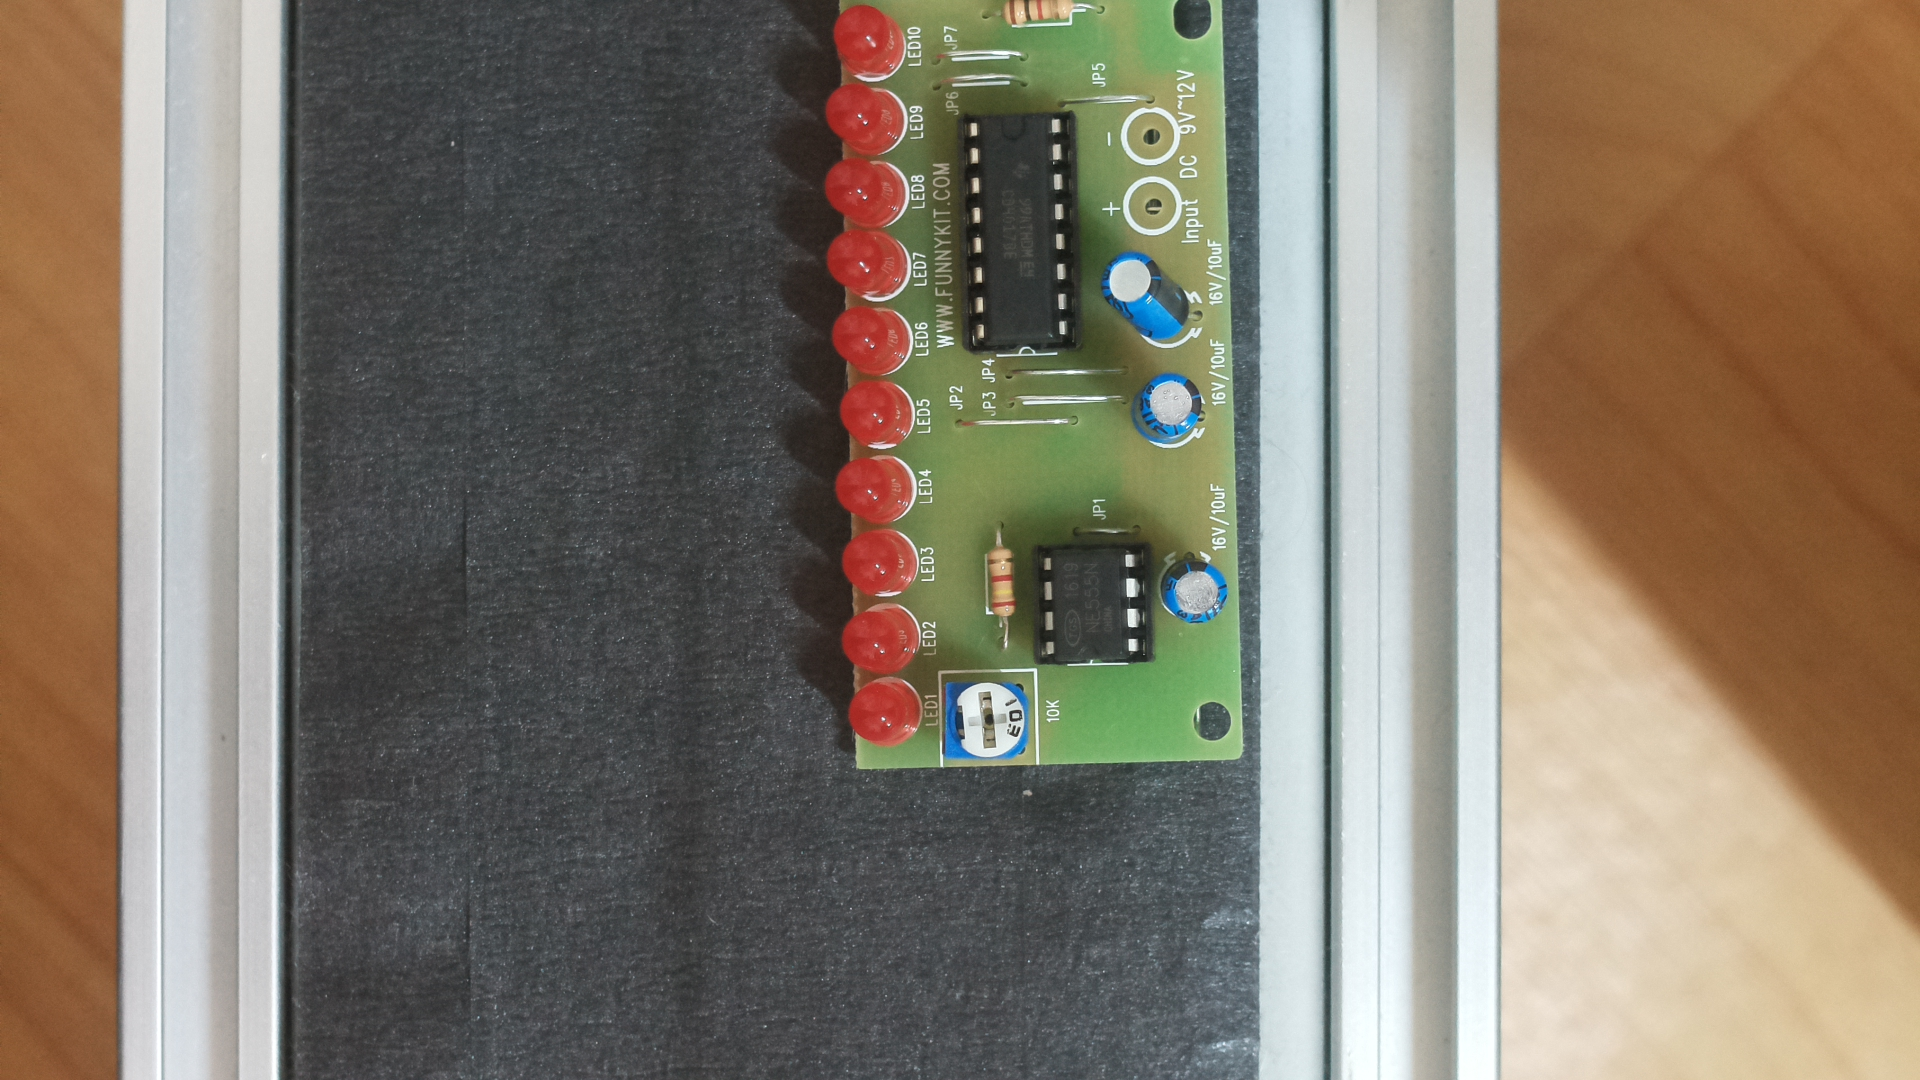B_Normal: (826, 0, 1252, 777)
